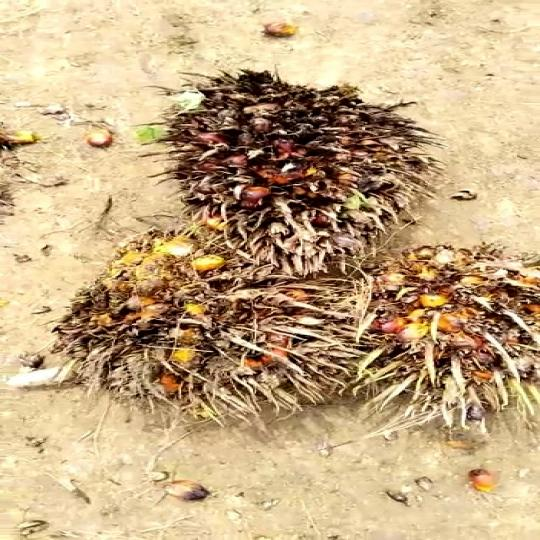terlalu masak: (146, 59, 436, 272), (62, 234, 386, 424), (336, 262, 540, 430)
